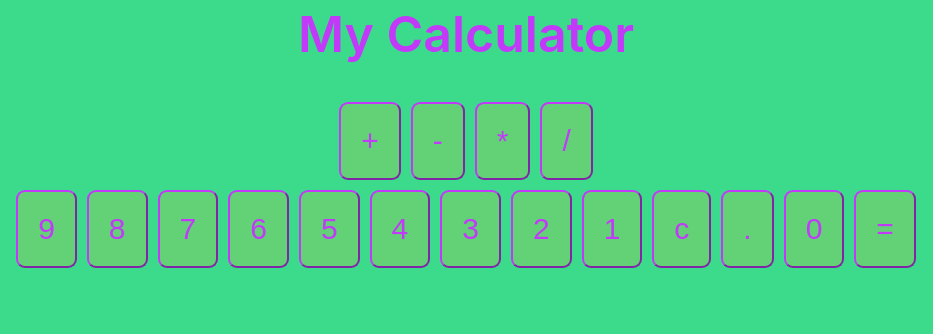
Test: should display 6 when the users enters 3*2
This screenshot has width=933, height=334.
Click the button "3" at (471, 229), box [440,190,501,268]
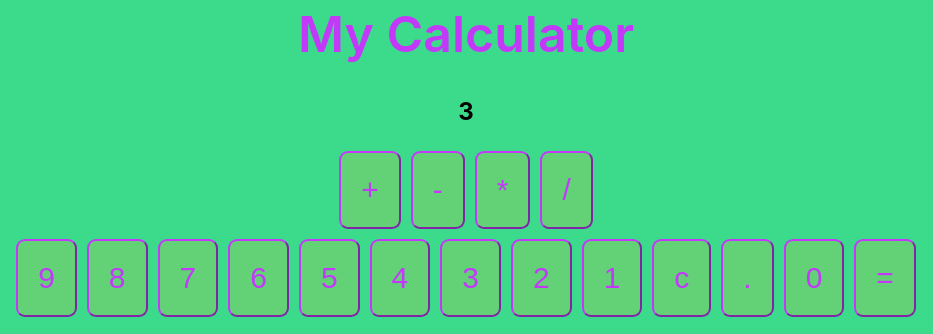
Click the button "*" at (503, 190), box [475,151,530,229]
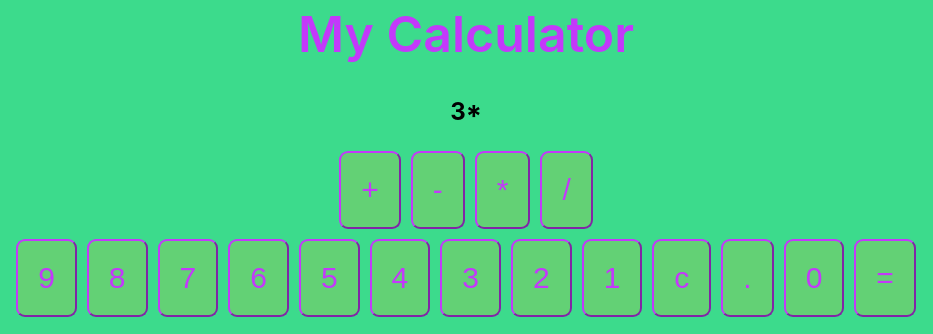
Click the button "2" at (541, 278), box [511,239,572,317]
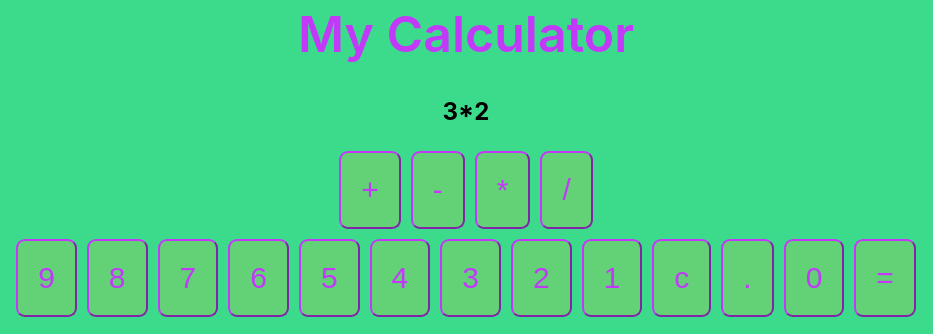
Click the button "=" at (885, 278), box [854,239,916,317]
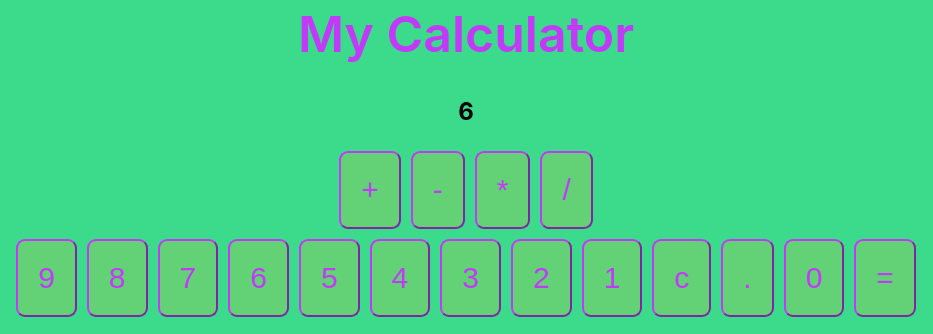
Check: the heading with test id "display" reads "6", box [458,97,474,126]
